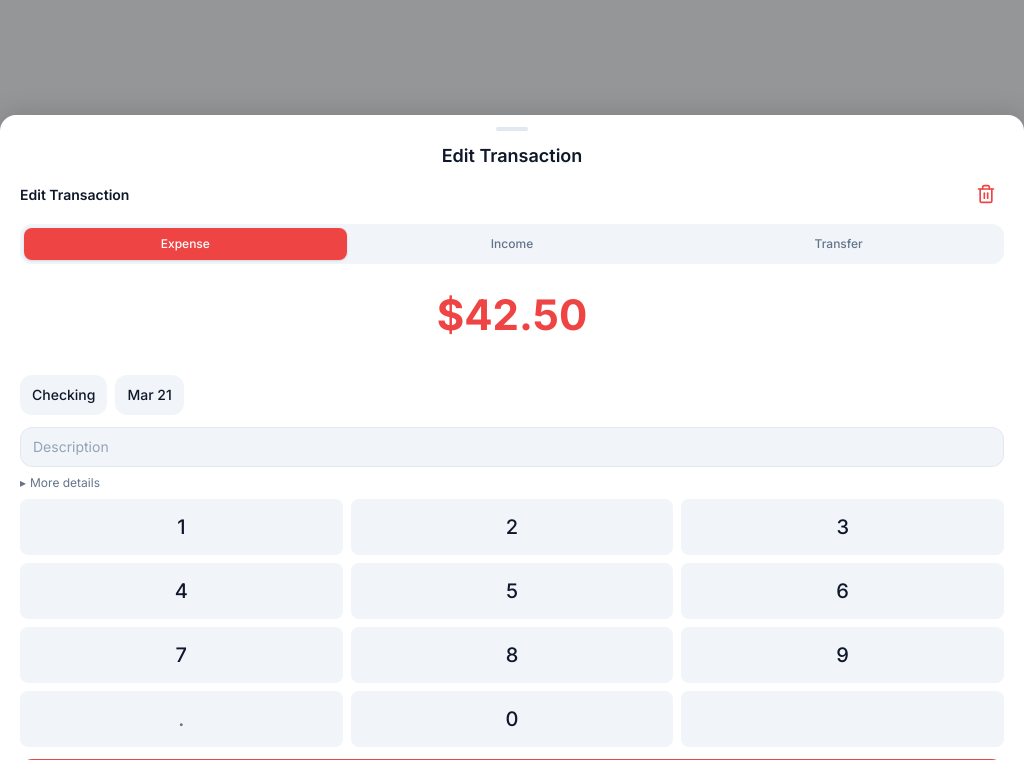
Test: EditTransactionSheet › shows delete confirmation dialog when delete icon is clicked
Click the button named "Delete transaction". click: (986,194)
box: [968, 176, 1004, 212]
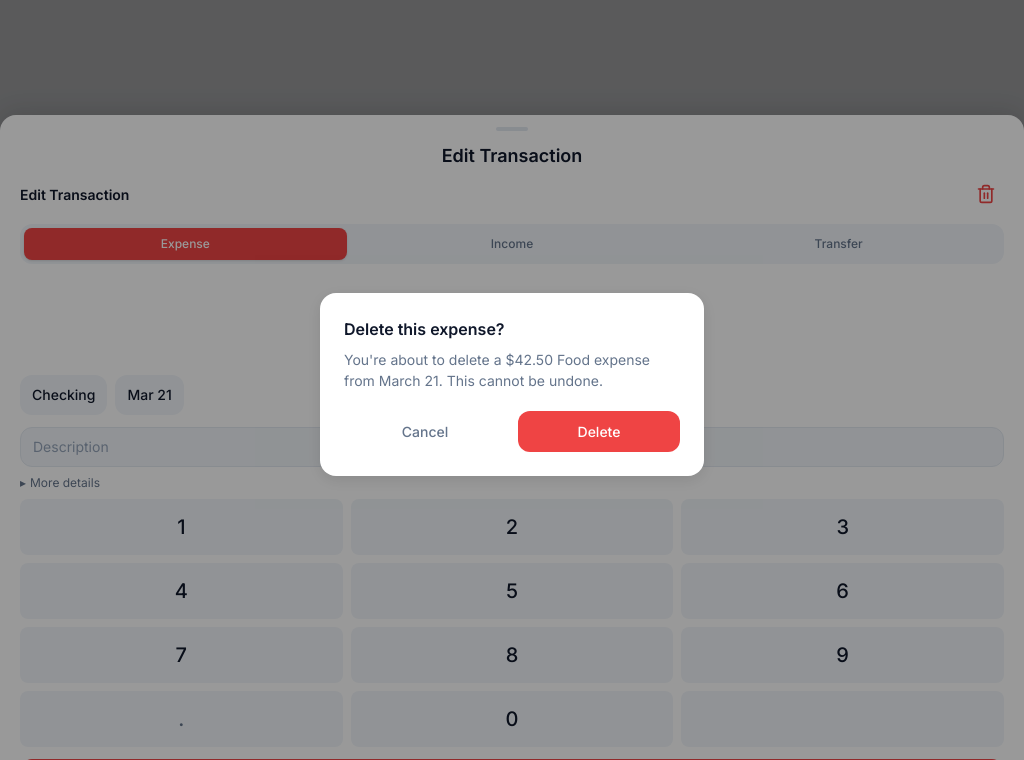
Now the dialog is shown, box [320, 292, 704, 476]
